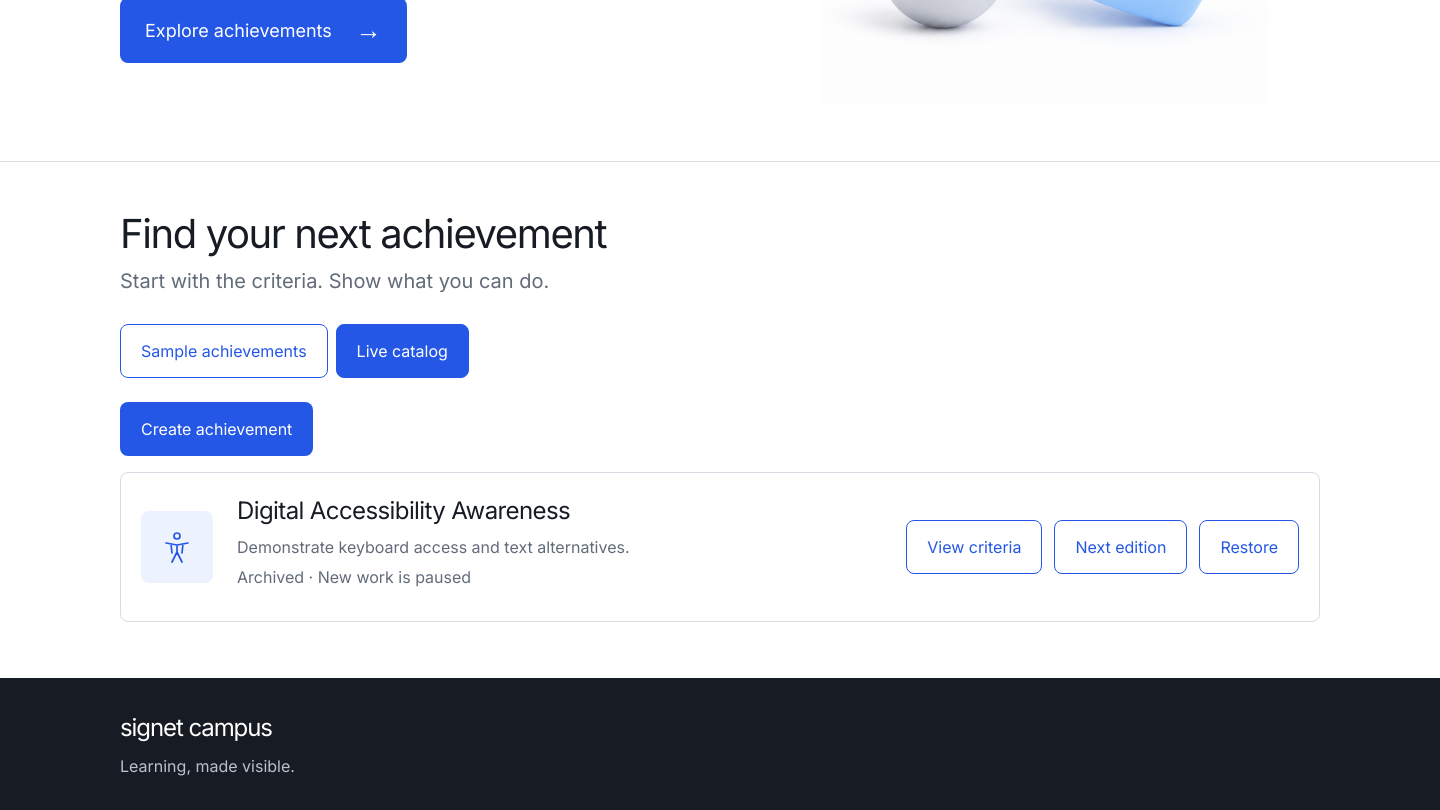
Scenario: creates a private next edition without editing its archived source
(page scrolled)
Click the button "Next edition" at (1121, 547), box [1054, 520, 1187, 574]
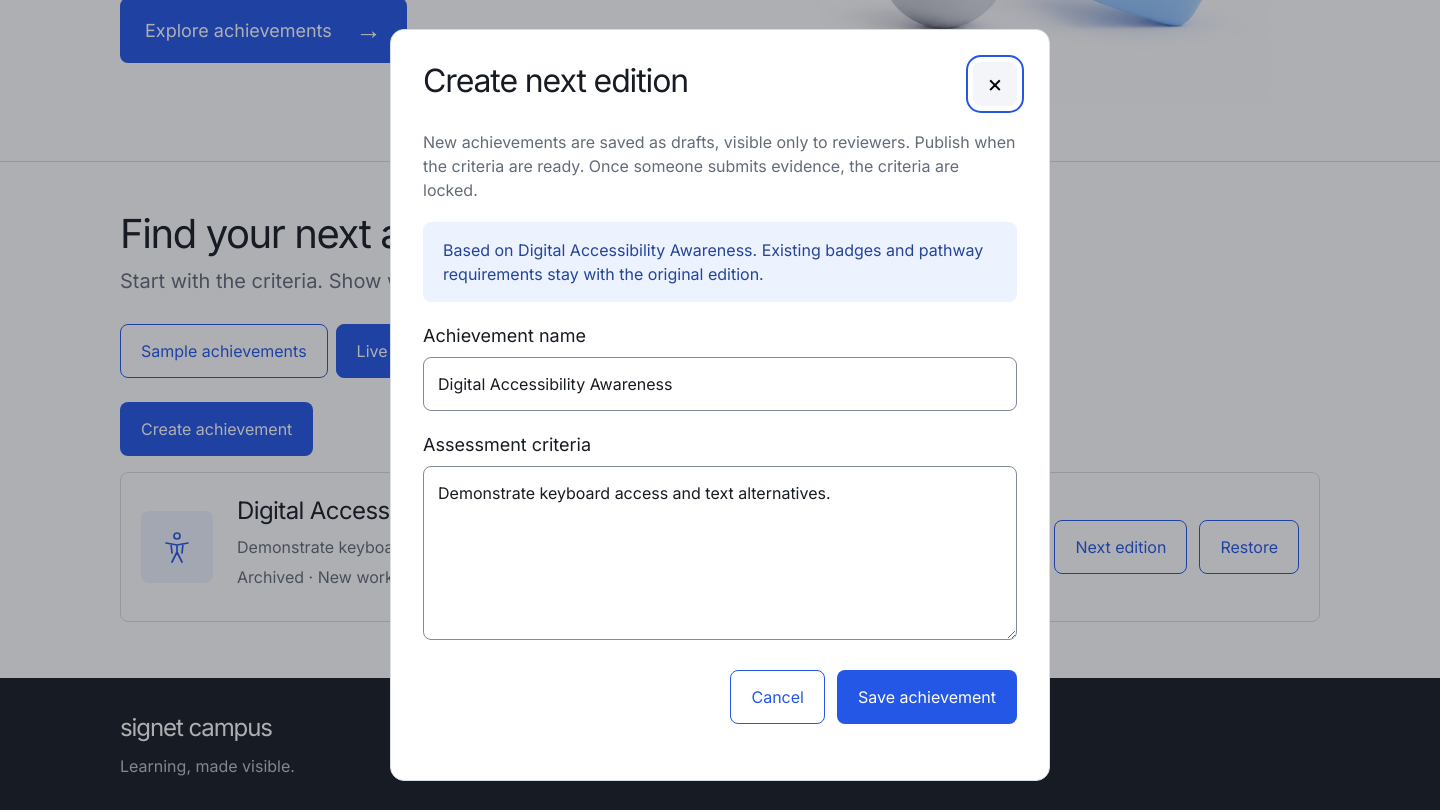
Expected: the dialog shows "Existing badges and pathway requirements stay with the original edition.", [443, 240, 983, 284]
Replace the text in the field labelled "Achievement name" with "Next year" at (720, 384), box [423, 357, 1017, 411]
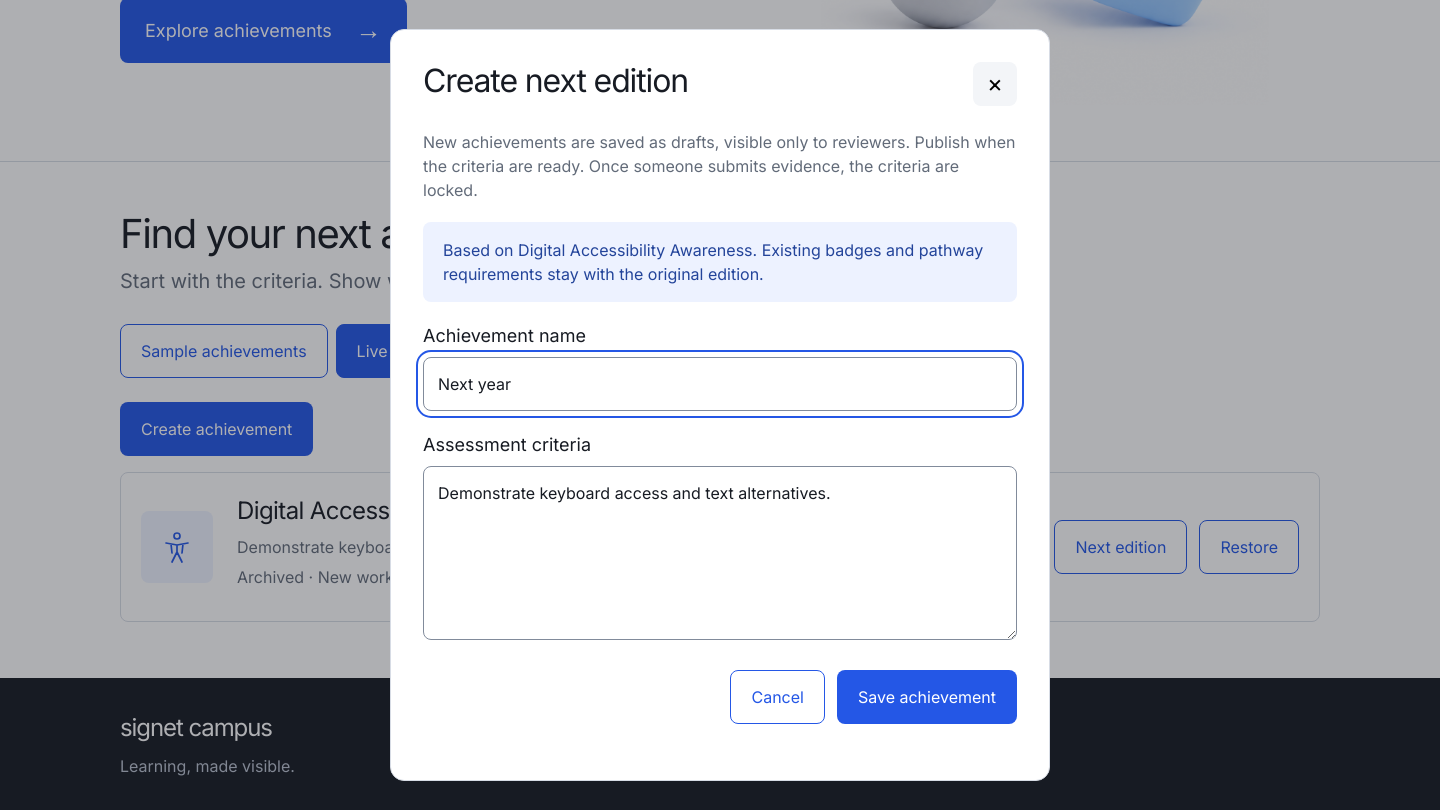
Click the button "Save achievement" at (927, 697), box [837, 670, 1017, 724]
(page scrolled)
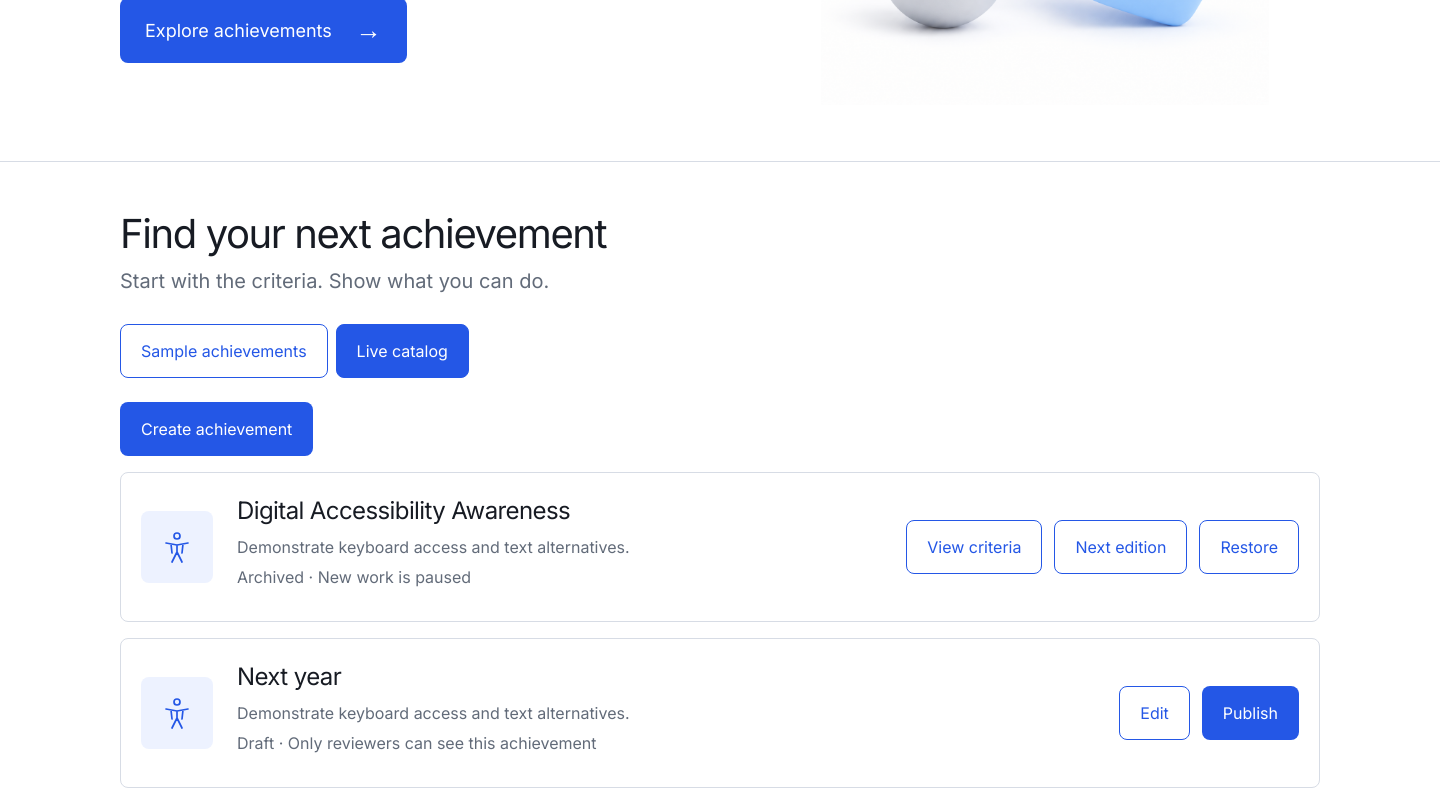
Expected: the heading "Next year" is shown, [237, 662, 341, 691]
